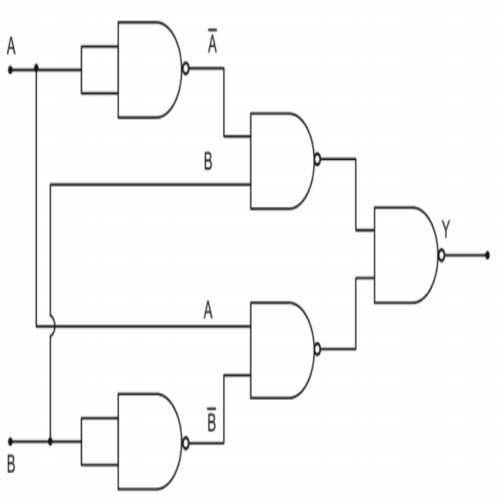nand: (113, 380, 193, 496), (245, 292, 325, 406), (112, 14, 192, 125), (370, 199, 448, 311), (246, 106, 324, 216)
